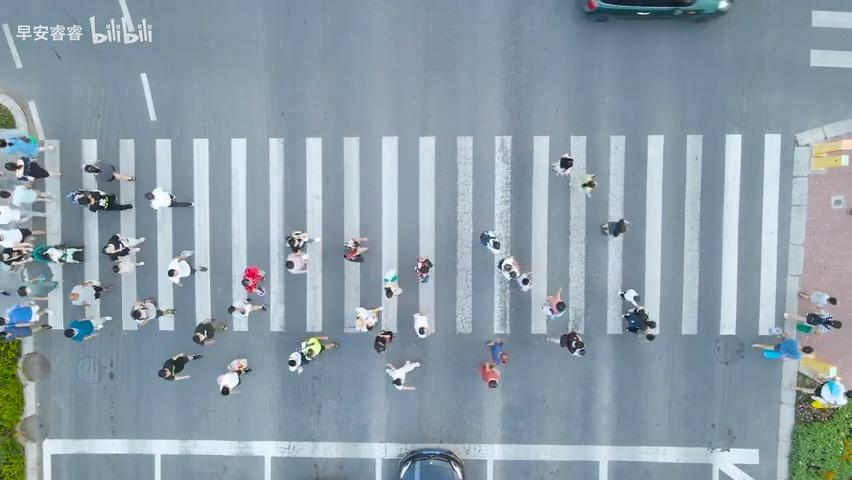Civilian: (751, 326, 814, 360), (551, 153, 597, 197), (65, 188, 132, 212), (167, 249, 207, 287), (130, 297, 177, 327), (157, 352, 203, 381), (216, 358, 252, 395), (810, 375, 849, 408), (0, 134, 55, 157), (0, 303, 52, 327), (36, 242, 88, 266), (497, 255, 531, 291), (64, 315, 111, 341), (783, 311, 841, 332), (102, 233, 145, 261), (83, 159, 135, 182), (68, 279, 112, 306), (144, 186, 193, 210), (0, 185, 53, 207), (4, 156, 49, 181), (384, 359, 420, 390), (17, 277, 65, 300), (298, 336, 341, 361), (192, 317, 228, 345), (285, 343, 313, 377), (622, 307, 655, 334), (540, 288, 566, 319), (241, 265, 266, 297), (354, 304, 382, 332), (798, 288, 837, 308), (285, 229, 320, 251), (227, 297, 267, 316), (559, 330, 585, 356), (485, 336, 508, 364), (343, 236, 368, 261), (216, 370, 240, 395), (285, 249, 309, 274), (600, 218, 630, 237), (479, 361, 500, 388), (383, 269, 402, 298), (618, 288, 641, 311), (413, 256, 432, 282), (374, 328, 393, 353), (479, 229, 500, 251), (412, 311, 429, 338)
